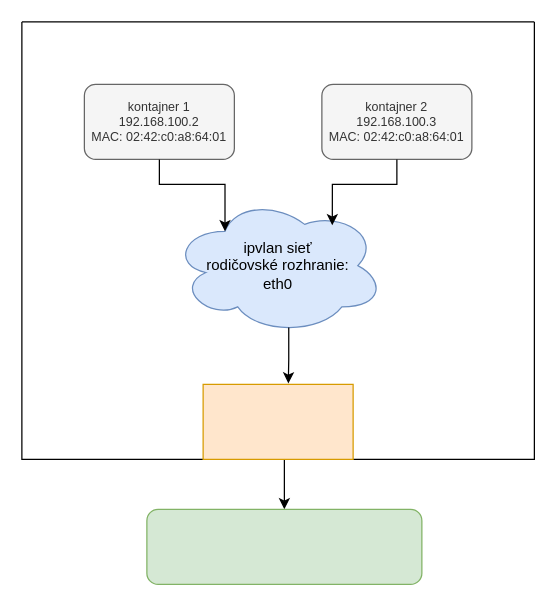
Image size: 556x606. Some labels were removed from this diagram. The shapes that lost their labels are listed below. From the top down, each one's centre as x and y in pixels, then its label:
point 277,421: eth0 192.168.100.33 MAC: 02:42:c0:a8:64:01
point 284,546: Fyzická sieť Subnet:192.168.100.0/24 Gateway:192.168.100.1
